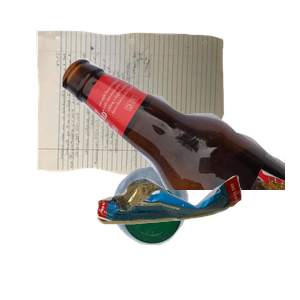glass: (60, 56, 300, 236)
paper: (32, 28, 249, 196)
plastic: (110, 164, 300, 300)
trash: (94, 173, 300, 300)
